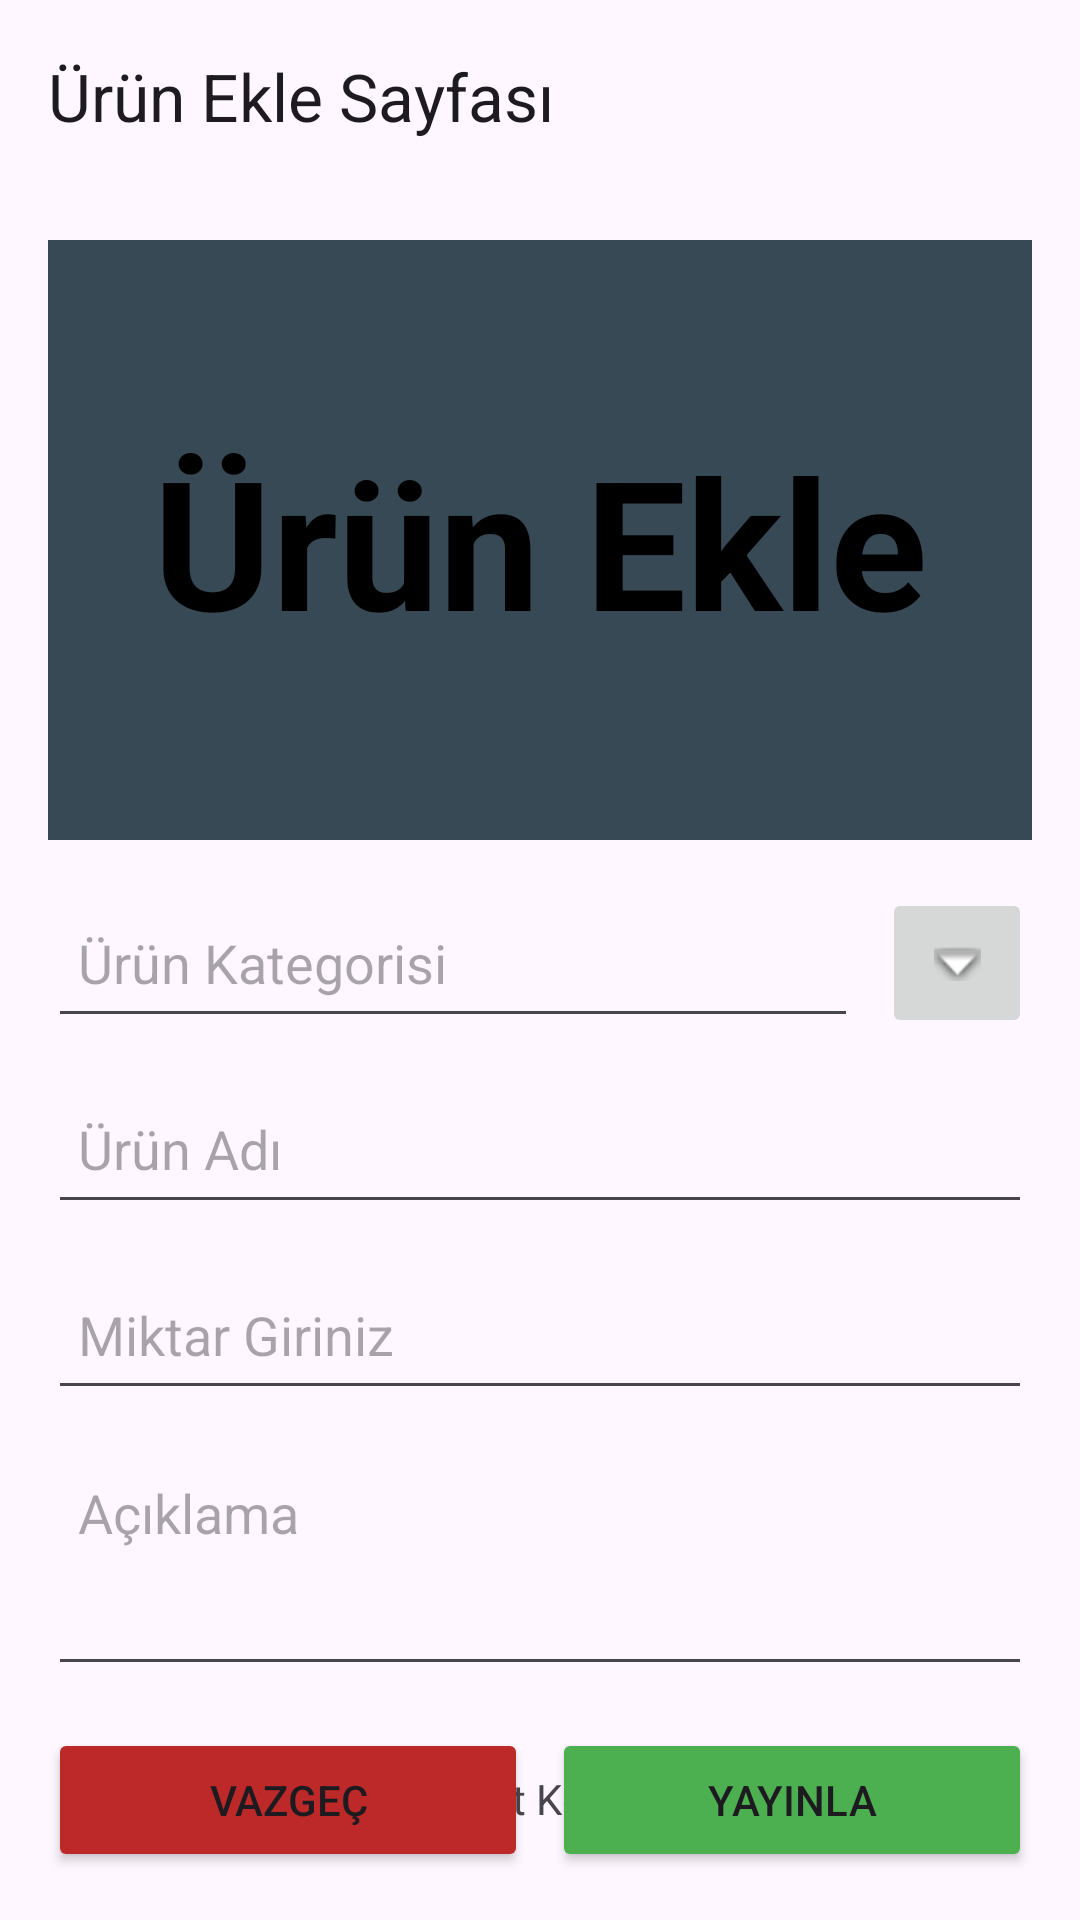

Screen size 1080×1920. Icon name, then its center in pixels as point (x, y):
arrow down float: point (957, 963)
